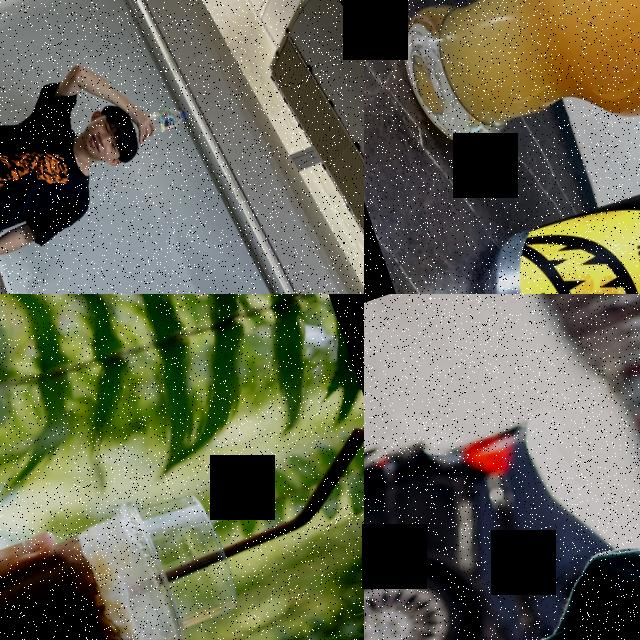bottle: (129, 103, 189, 142)
can: (465, 132, 640, 294)
cup: (0, 475, 251, 640)
